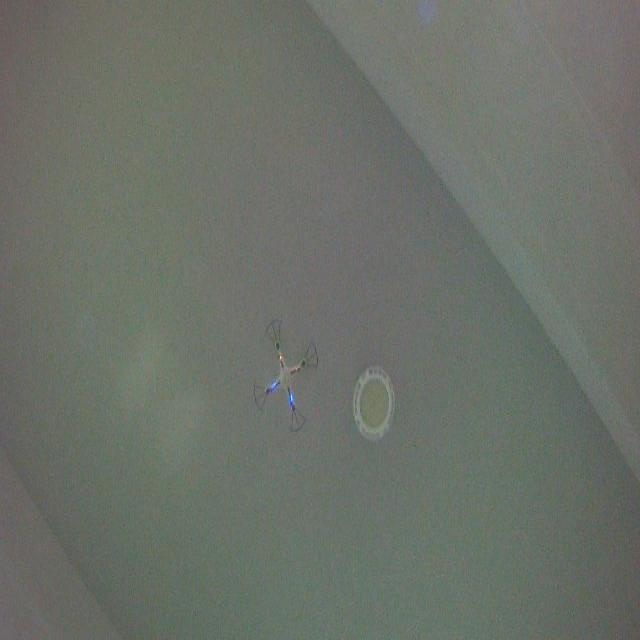drone: (252, 313, 322, 435)
